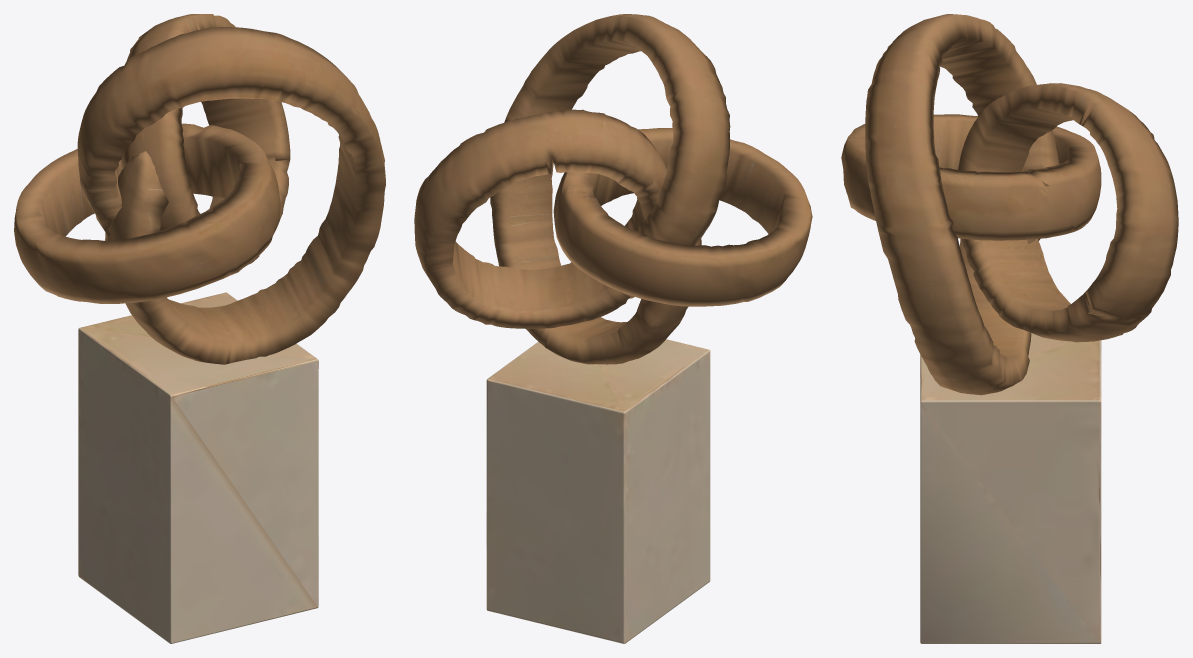
Rendered from sculpture-rings.glb.
The picture shows the model from 3 angles, left to right: view 1: azimuth 30°, elevation 25°; view 2: azimuth 150°, elevation 25°; view 3: azimuth 270°, elevation 25°; orthographic projection. The views are drawn at different scales.
Size of the model in its own units: 0.5518 by 0.9517 by 0.5015.
1 material, 1 textured.
